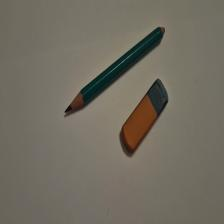eraser: (122, 79, 170, 154)
pencil: (65, 27, 166, 114)
